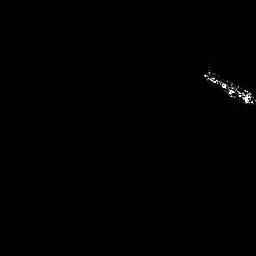ship: (199, 67, 256, 110)
